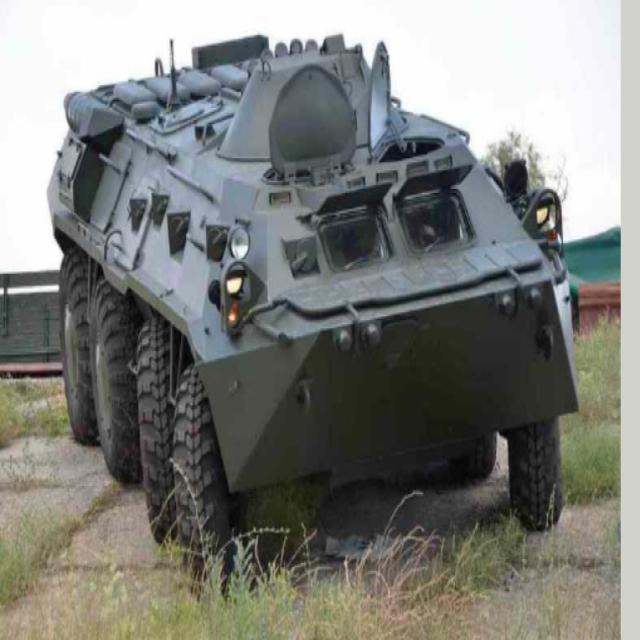MIL_APC: (36, 45, 597, 584)
